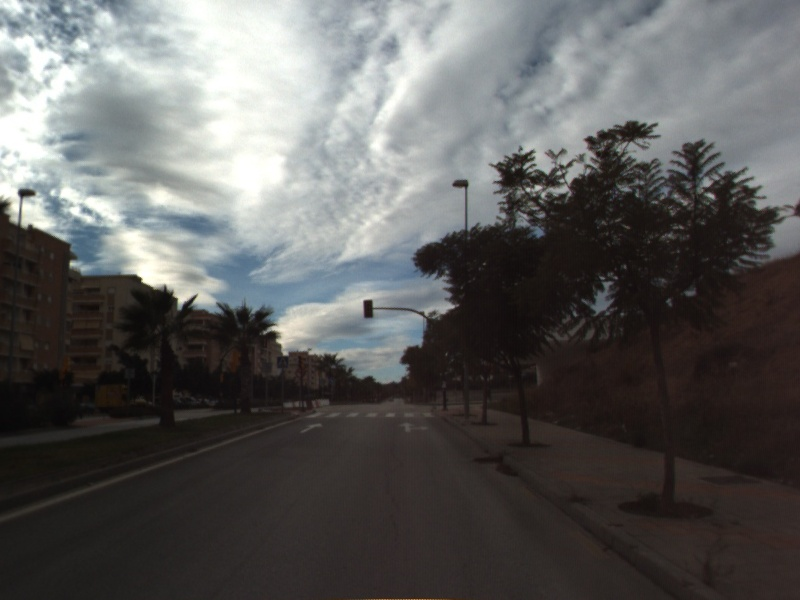STRAIGHT: (298, 421, 325, 435)
STRAIGHT_RIGHT: (397, 420, 431, 435)
